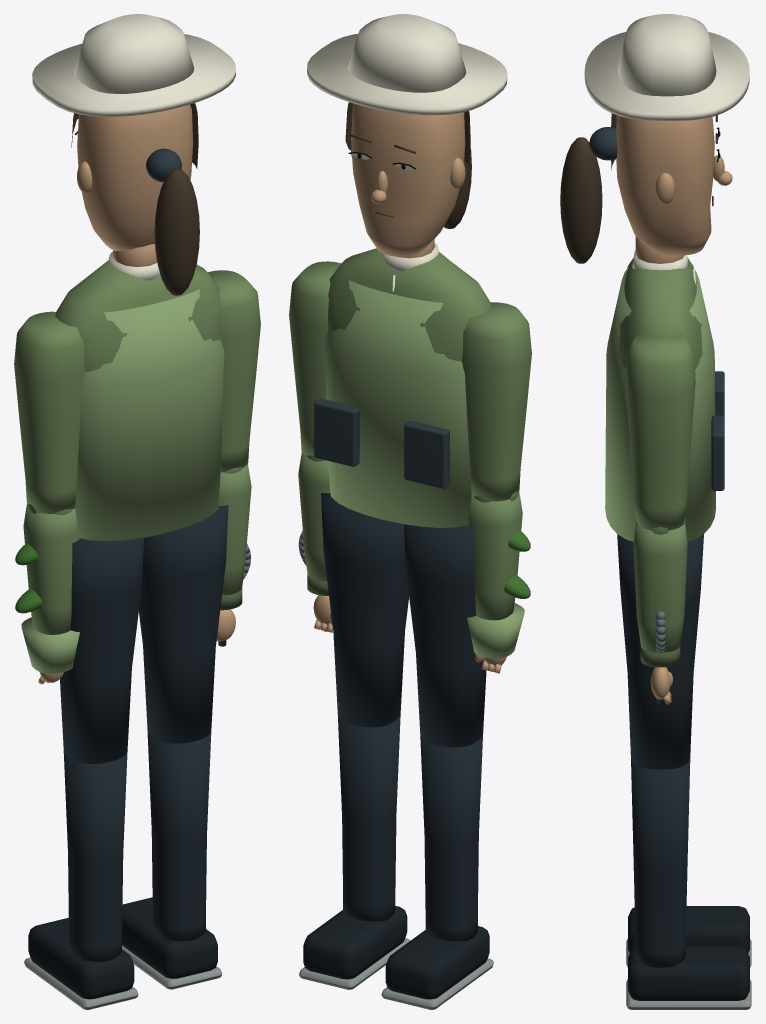
Rendered from npc_botany.glb.
The picture shows the model from 3 angles, left to right: view 1: azimuth 30°, elevation 25°; view 2: azimuth 150°, elevation 25°; view 3: azimuth 270°, elevation 25°; orthographic projection.
Parts seen in each view (by area): view 1: Vest, TrouserThigh.001, SunHatBrim, TrouserThigh, Sleeve, AdultFace, Knee.001, Knee, QuietClothTorso, Sleeve.001, ElbowTransition, Eyebrow (+10 smaller); view 2: Vest, TrouserThigh.001, SunHatBrim, TrouserThigh, AdultFace, Sleeve, Knee, Knee.001, QuietClothTorso, Sleeve.001, UtilityPocket, ElbowTransition (+10 smaller); view 3: SunHatBrim, AdultFace, Sleeve.001, Knee.001, Vest, TrouserThigh.001, ElbowTransition.001, OrdinaryShoe.001, QuietClothTorso, Eyebrow, OrdinaryShoe, UtilityPocket (+6 smaller).
Part boxes in pixels (left/top/right/bottom): Vest: left=75, top=289, right=224, bottom=540; TrouserThigh.001: left=139, top=505, right=228, bottom=743; SunHatBrim: left=32, top=14, right=235, bottom=116; TrouserThigh: left=60, top=538, right=143, bottom=763; Sleeve: left=14, top=311, right=85, bottom=513; AdultFace: left=77, top=104, right=193, bottom=251; Knee.001: left=147, top=731, right=211, bottom=941; Knee: left=63, top=751, right=127, bottom=961; QuietClothTorso: left=55, top=260, right=221, bottom=540; Sleeve.001: left=208, top=270, right=260, bottom=472; ElbowTransition: left=23, top=504, right=79, bottom=634; Eyebrow: left=71, top=103, right=199, bottom=295; Vest: left=325, top=280, right=471, bottom=527; TrouserThigh.001: left=321, top=493, right=408, bottom=727; SunHatBrim: left=307, top=14, right=507, bottom=115; TrouserThigh: left=404, top=524, right=486, bottom=747; AdultFace: left=351, top=103, right=465, bottom=256; Sleeve: left=462, top=302, right=531, bottom=501; Knee: left=420, top=735, right=482, bottom=941; Knee.001: left=338, top=714, right=400, bottom=921; QuietClothTorso: left=327, top=248, right=491, bottom=361; Sleeve.001: left=289, top=261, right=341, bottom=460; UtilityPocket: left=314, top=398, right=449, bottom=488; ElbowTransition: left=467, top=491, right=522, bottom=620; SunHatBrim: left=584, top=14, right=749, bottom=120; AdultFace: left=616, top=115, right=732, bottom=255; Sleeve.001: left=625, top=334, right=695, bottom=530; Knee.001: left=631, top=757, right=690, bottom=967; Vest: left=605, top=266, right=715, bottom=541; TrouserThigh.001: left=617, top=534, right=703, bottom=769; ElbowTransition.001: left=633, top=518, right=687, bottom=652; OrdinaryShoe.001: left=628, top=946, right=749, bottom=1000; QuietClothTorso: left=618, top=259, right=702, bottom=369; Eyebrow: left=560, top=113, right=717, bottom=263; OrdinaryShoe: left=628, top=906, right=749, bottom=953; UtilityPocket: left=711, top=371, right=724, bottom=490.
Bounding box in the file's own units: 0.4152 × 1.59 × 0.29.
